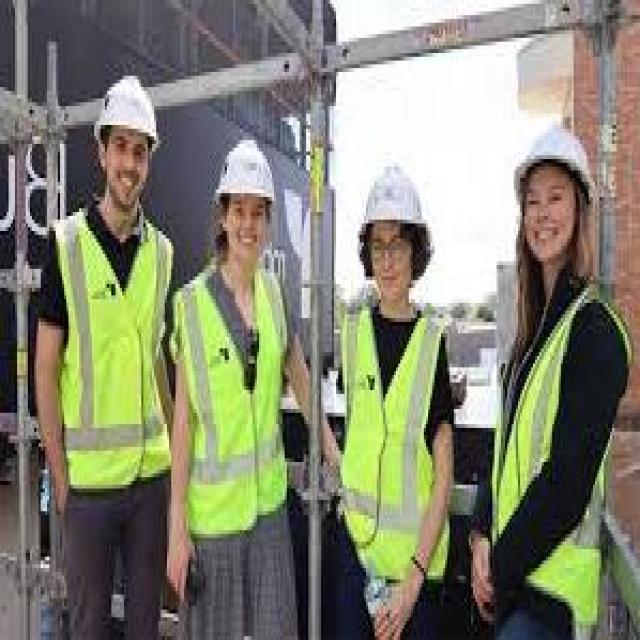Reflective-Jacket: (484, 276, 638, 618), (47, 216, 173, 500), (338, 303, 456, 583), (176, 276, 291, 542)
Safety-Helmet: (503, 106, 604, 205), (353, 156, 435, 242), (92, 68, 163, 148), (214, 133, 276, 208)
